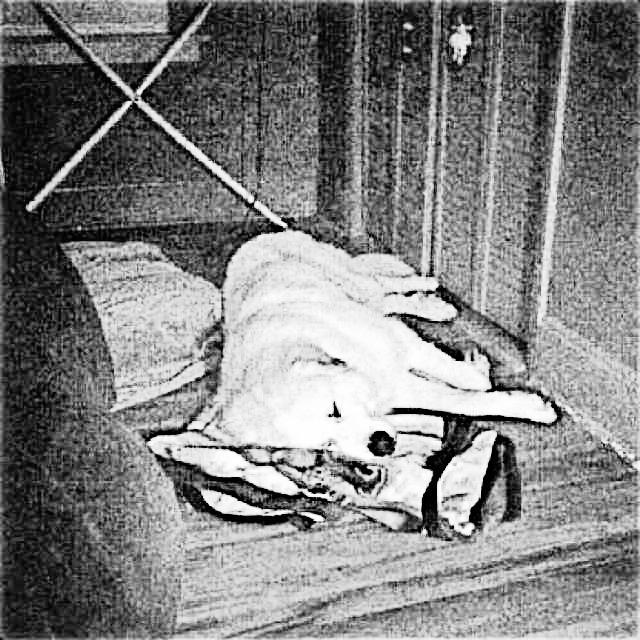Dog: (210, 217, 563, 466)
